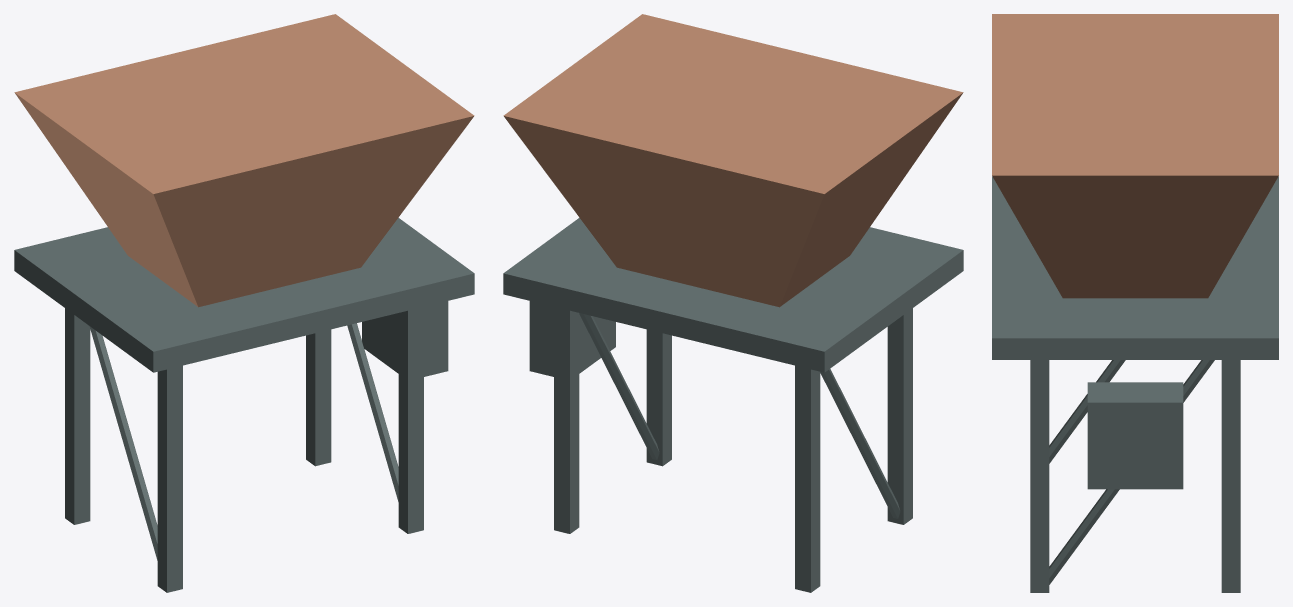
3 views of the same model, side by side, from view 1: azimuth 30°, elevation 25°; view 2: azimuth 150°, elevation 25°; view 3: azimuth 270°, elevation 25° (orthographic). The views are drawn at different scales.
Bounding box in the file's own units: 8.5 × 10.06 × 6.
